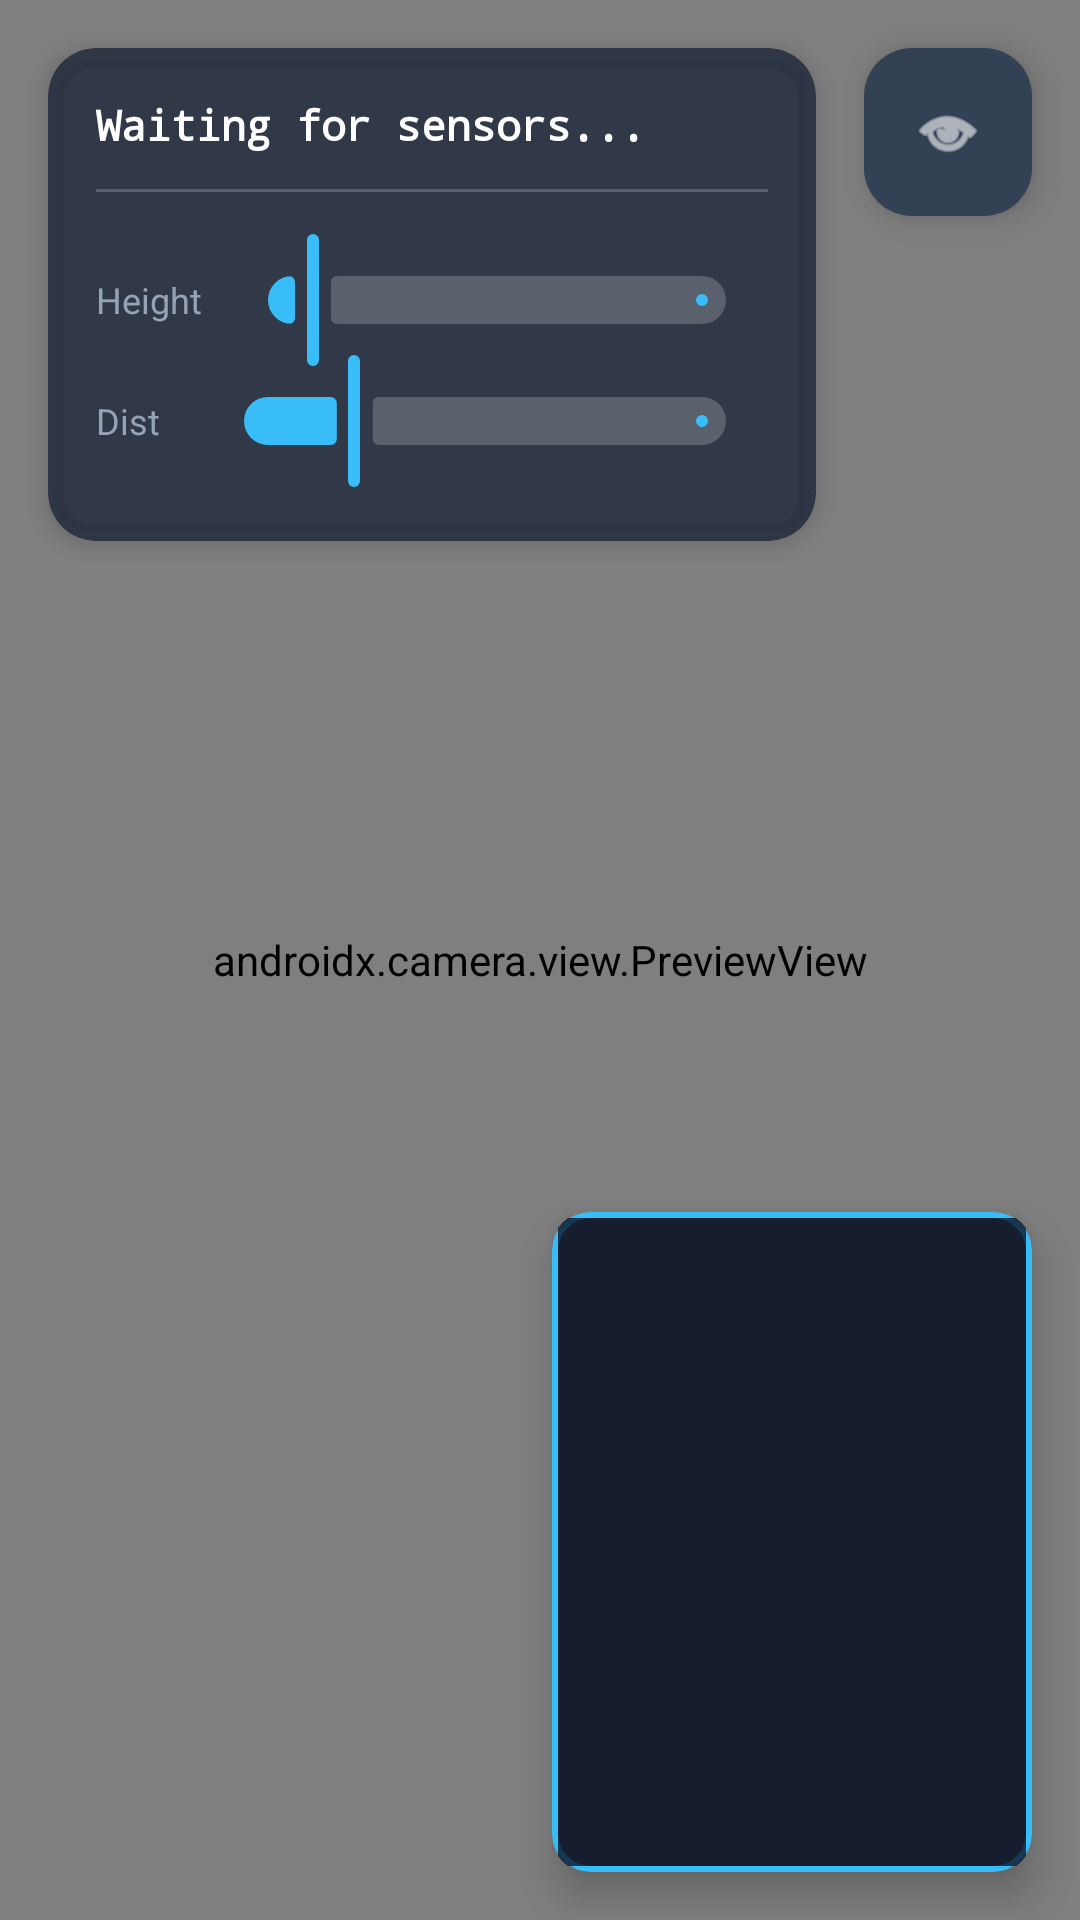

Named icons in this screenshot (1080px×1920px) and their bounding boxes, (x1, y1, x2, y2):
Toggle Info: (864, 48, 1032, 216)
